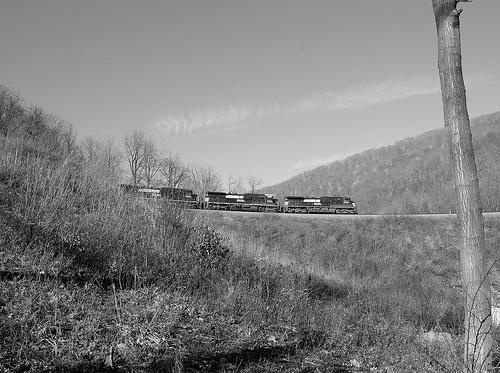train: (118, 185, 360, 217)
